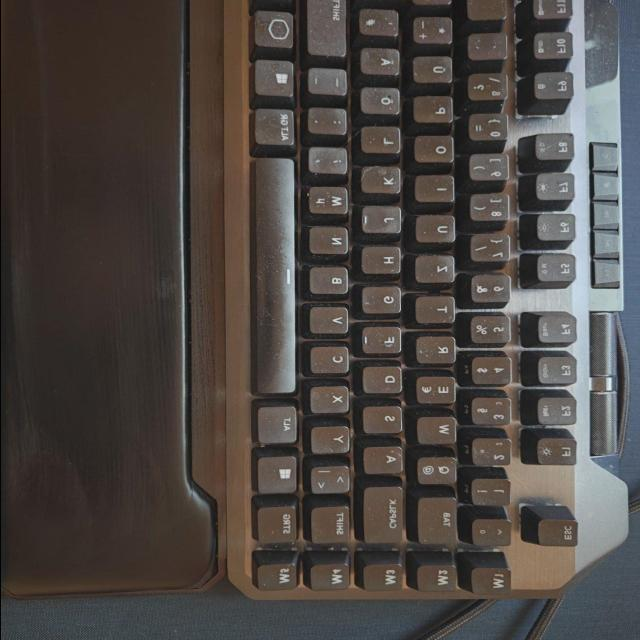0: (467, 114, 511, 144)
1: (472, 479, 514, 508)
2: (471, 438, 515, 468)
3: (470, 398, 514, 428)
4: (471, 356, 515, 387)
5: (470, 315, 514, 347)
6: (472, 274, 514, 305)
7: (469, 235, 513, 265)
8: (468, 194, 512, 224)
9: (468, 154, 512, 184)
a: (363, 447, 406, 477)
accent: (468, 34, 510, 63)
ae: (361, 48, 403, 78)
alt-left: (257, 406, 301, 446)
altgr-right: (255, 109, 297, 149)
b: (310, 267, 352, 297)
c: (310, 347, 352, 377)
caret: (473, 519, 515, 548)
comma: (308, 147, 351, 177)
d: (363, 366, 405, 396)
del: (467, 0, 510, 25)
e: (416, 376, 458, 406)
f: (362, 327, 405, 357)
g: (362, 287, 404, 317)
h: (361, 247, 404, 277)
hash: (360, 9, 402, 39)
i: (415, 176, 457, 205)
j: (362, 206, 405, 236)
k: (362, 166, 405, 196)
keyboard: (186, 0, 636, 603)
l: (360, 127, 404, 156)
less: (311, 467, 354, 497)
m: (308, 187, 352, 217)
minus: (308, 69, 350, 99)
n: (310, 226, 352, 257)
o: (415, 135, 457, 165)
oe: (361, 87, 403, 117)
p: (414, 96, 456, 125)
plus: (413, 17, 455, 47)
point: (308, 108, 350, 138)
q: (417, 457, 459, 487)
r: (416, 336, 458, 366)
s: (363, 406, 405, 436)
shift-left: (311, 506, 353, 546)
shift-lock: (363, 487, 406, 545)
shift-right: (307, 1, 350, 59)
space: (253, 156, 299, 398)
ss: (468, 74, 511, 103)
strg-left: (257, 506, 299, 546)
t: (416, 296, 458, 326)
tab: (418, 498, 459, 546)
u: (416, 215, 458, 245)
ue: (413, 56, 456, 86)
v: (310, 307, 352, 337)
w: (417, 417, 459, 447)
x: (310, 386, 352, 416)
y: (312, 426, 354, 456)
z: (414, 255, 458, 285)
